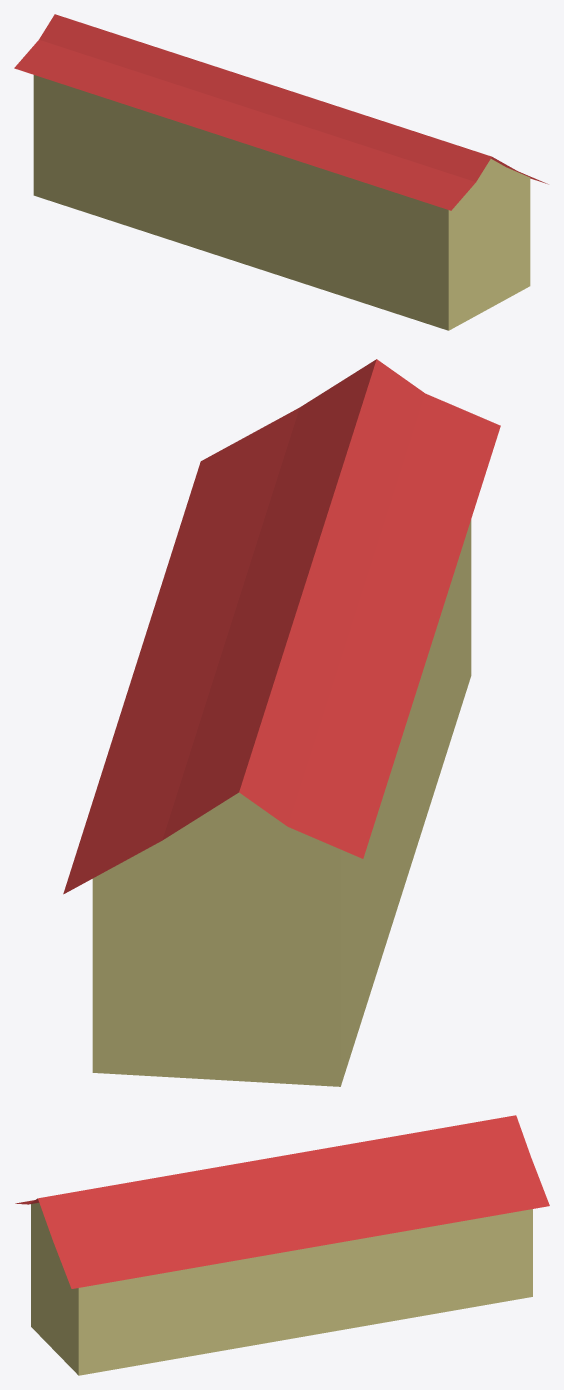
3 renders of one model, top to bottom at view 1: azimuth 30°, elevation 25°; view 2: azimuth 150°, elevation 25°; view 3: azimuth 270°, elevation 25°, orthographic. The views are drawn at different scales.
Bounding box in the file's own units: 19.24 × 30.63 × 9.46.
